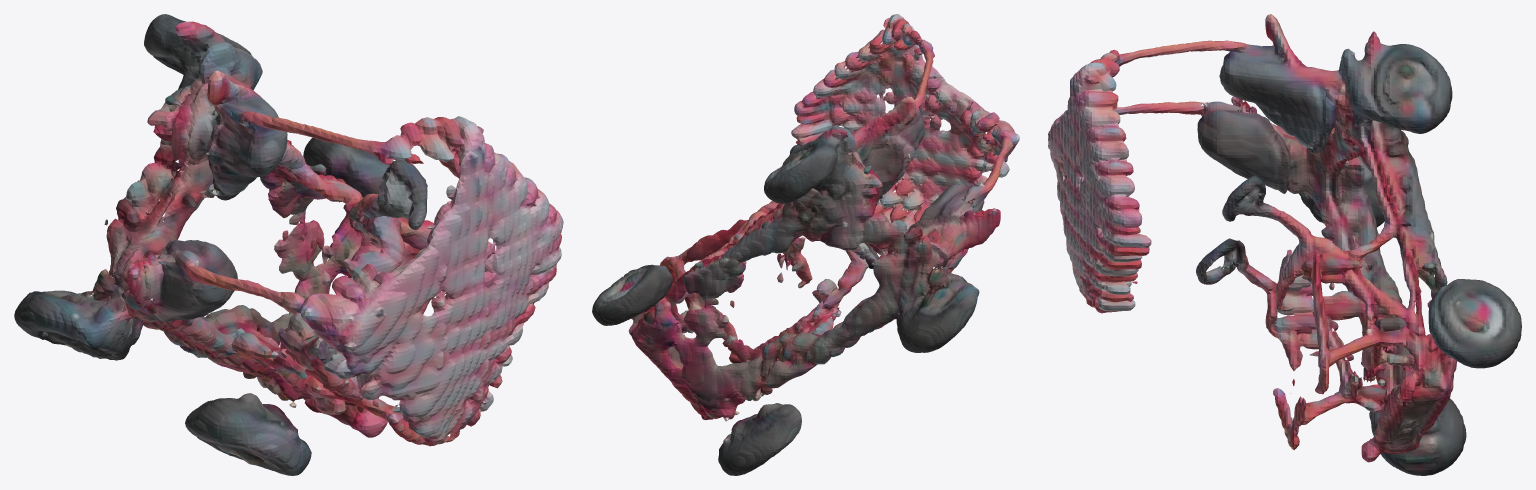
File: 000000_bicycle_bike_cycling.glb
The picture shows the model from 3 angles, left to right: view 1: azimuth 30°, elevation 25°; view 2: azimuth 150°, elevation 25°; view 3: azimuth 270°, elevation 25°; orthographic projection. The views are drawn at different scales.
Visible parts, largest first — view 1: world; view 2: world; view 3: world.
Part boxes in pixels (x1,y1,x2,y2): world: (14,14,563,475); world: (592,14,1019,475); world: (1048,14,1521,475).
Size of the model in its own units: 0.903 by 0.9446 by 1.01.
